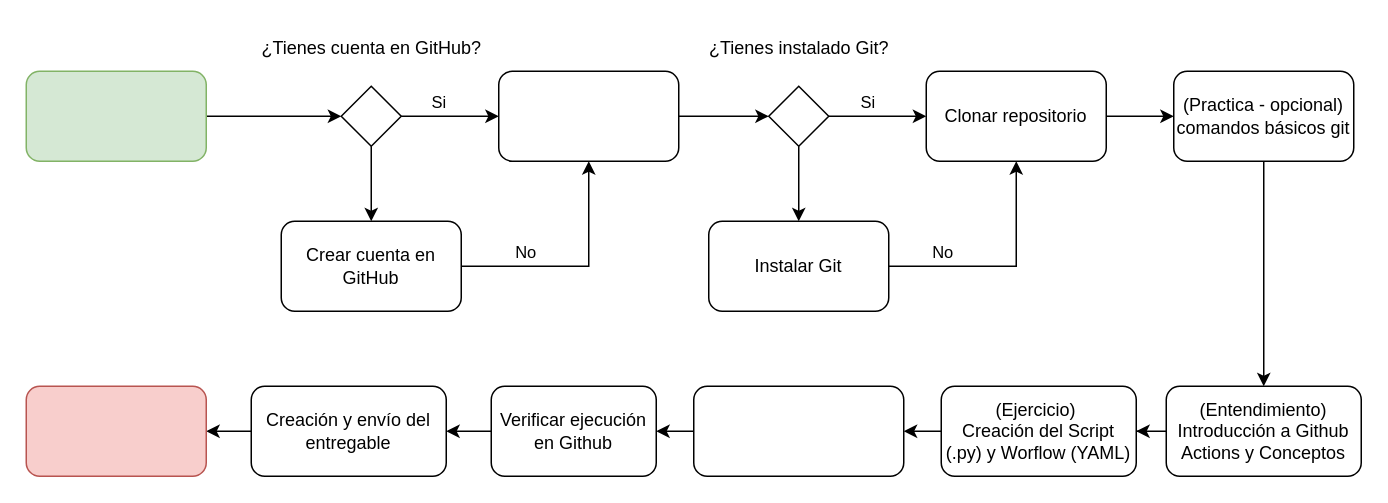
The diagram is 1388 pixels wide and 503 high, and some of its shapes have lost their labels. The shapes that lost their labels are listed below. From the top down, each one's centre as x and y in pixels, then its label:
[115,115]: INICIO
[588,115]: Creación del repositorio
[115,430]: FIN
[798,430]: (Versionar Script y YAML) git add *, commit, push
